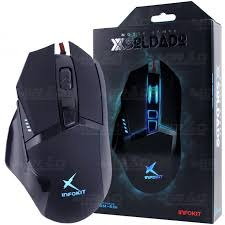mouse: (3, 37, 115, 225), (112, 58, 193, 198)
